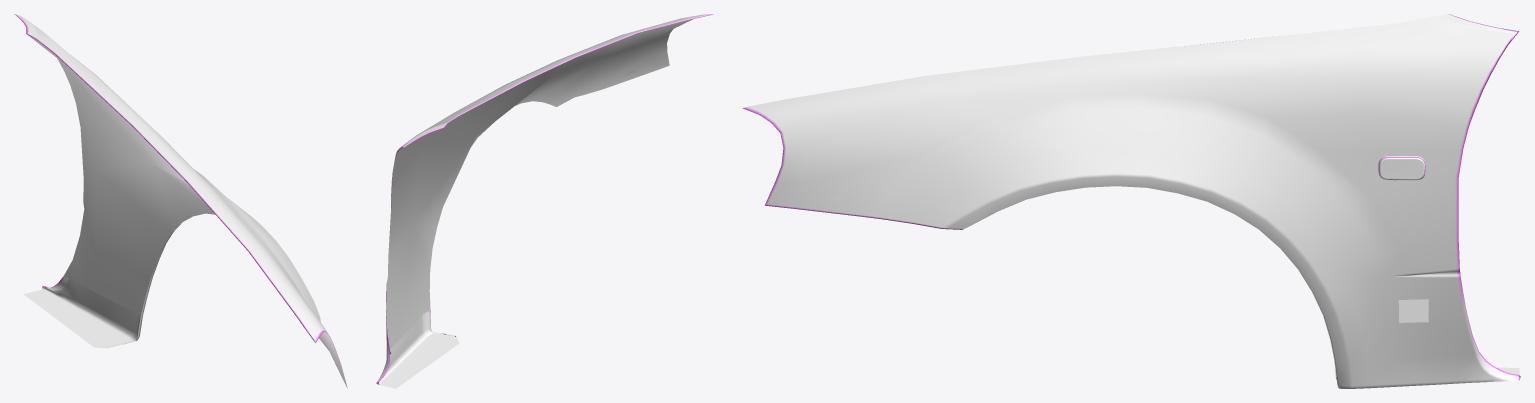
File: Car_Nissan_SkylineGTRVspecR34_1999_FenderFL_SetB_AltA.fbx
The picture shows the model from 3 angles, left to right: view 1: azimuth 30°, elevation 25°; view 2: azimuth 150°, elevation 25°; view 3: azimuth 270°, elevation 25°; orthographic projection. The views are drawn at different scales.
Parts seen in each view (by area): view 1: FenderFL 6; view 2: FenderFL 6; view 3: FenderFL 6.
Part boxes in pixels (x1,y1,x2,y2): FenderFL 6: [14, 14, 347, 387]; FenderFL 6: [376, 14, 713, 388]; FenderFL 6: [743, 14, 1520, 388].
Size of the model in its own units: 0.2093 by 0.6198 by 1.29.
